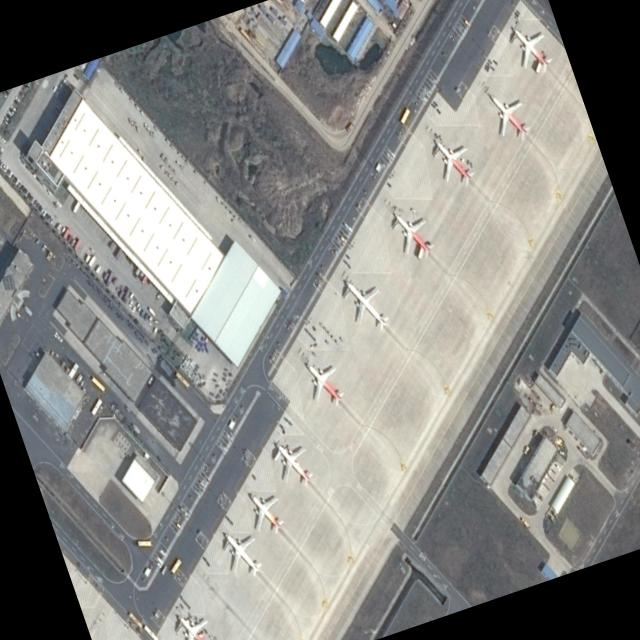large-vehicle: (128, 611, 143, 628), (175, 371, 189, 388), (143, 625, 158, 640), (91, 376, 105, 392), (170, 558, 182, 576), (91, 397, 102, 415), (400, 108, 410, 124), (88, 254, 96, 267), (521, 517, 530, 528), (137, 540, 152, 546), (149, 307, 156, 316)
plane: (336, 265, 396, 343), (215, 517, 269, 590), (481, 79, 536, 150), (427, 125, 481, 197), (385, 198, 440, 268), (504, 13, 557, 83), (297, 349, 351, 417), (240, 476, 290, 545), (268, 429, 318, 497), (170, 601, 222, 640)
small-vehicle: (95, 264, 102, 273), (7, 109, 13, 117), (10, 104, 16, 112), (19, 90, 25, 98), (15, 95, 21, 103), (4, 164, 9, 172), (153, 327, 158, 335), (131, 305, 136, 313), (1, 137, 7, 143), (8, 171, 13, 178), (15, 178, 20, 185), (53, 201, 58, 208), (34, 199, 38, 207), (4, 115, 9, 121), (42, 210, 47, 216), (22, 187, 27, 193), (19, 184, 24, 190), (0, 161, 4, 168), (129, 300, 133, 307), (45, 212, 49, 219), (38, 204, 42, 210), (29, 195, 33, 201), (13, 176, 17, 182), (4, 120, 8, 125)
